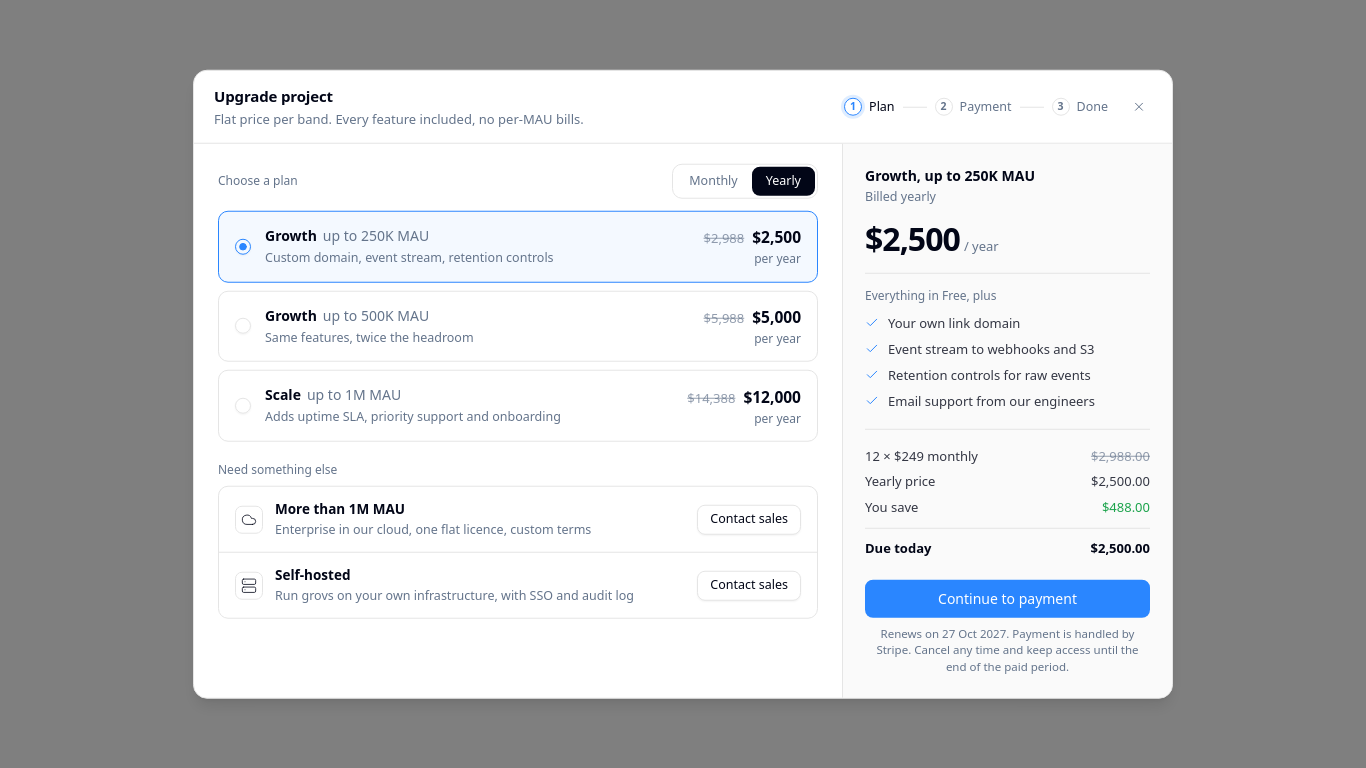
it: ScaleUpDialog plan picker › shows crossed-out twelve-month totals only on Yearly
This screenshot has width=1366, height=768.
Expected: the text "$2,988" is shown, [704,229,744,248]
Expected: the text "$14,388" is shown, [687,388,735,408]
Click the button "Monthly": (714, 181) [675,167,752,196]
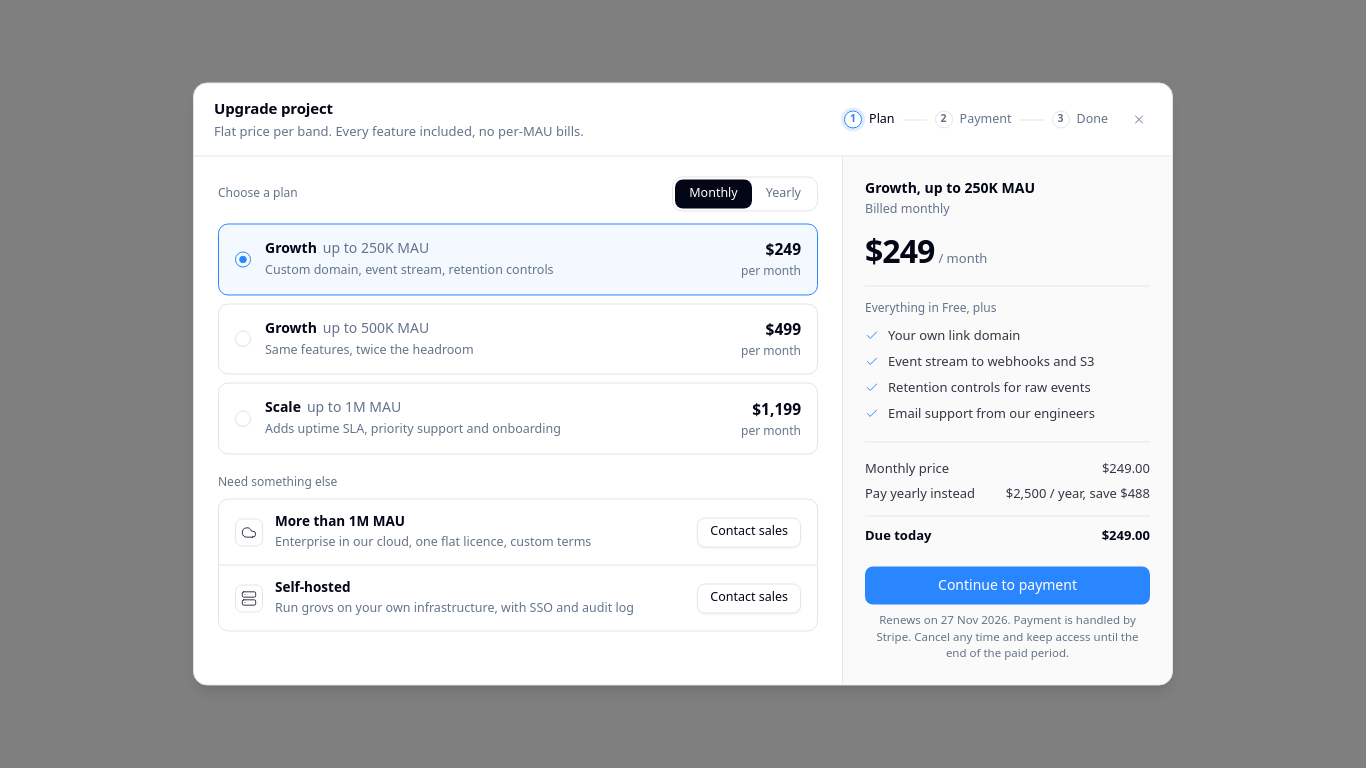
Result: the text "$2,988" is gone
Result: the text "$14,388" is gone
Result: the text "You save" is gone
